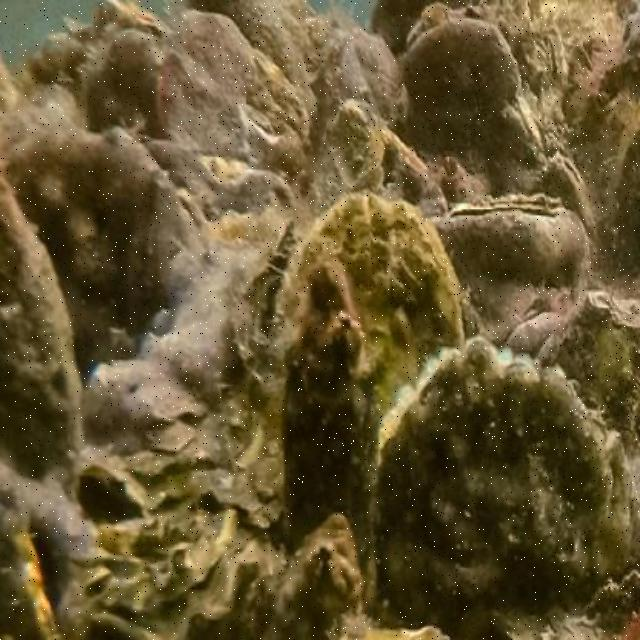Oyster-Closed: (375, 338, 615, 626), (0, 65, 211, 382), (274, 192, 467, 439), (285, 262, 379, 615), (0, 174, 87, 489), (398, 16, 544, 172), (157, 13, 254, 157), (257, 518, 368, 638), (0, 516, 66, 638), (541, 152, 597, 232)
Oyster-Open: (85, 505, 243, 638), (450, 194, 588, 287)
